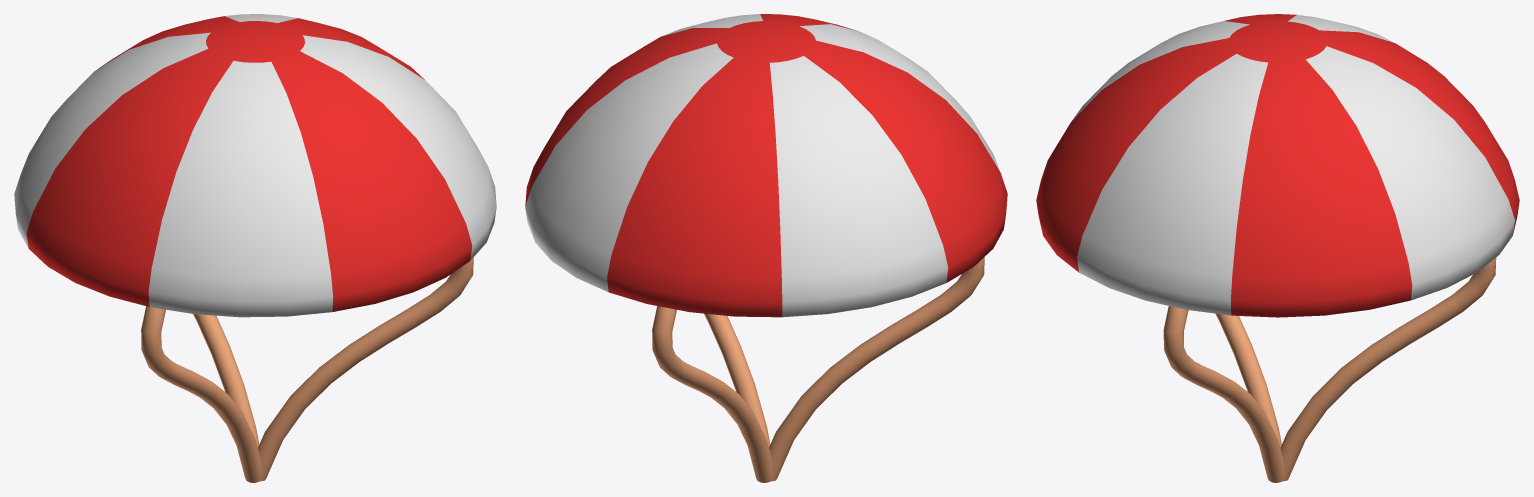
The model's file is Parachute.fbx.
3 views of the same model, side by side, from view 1: azimuth 30°, elevation 25°; view 2: azimuth 150°, elevation 25°; view 3: azimuth 270°, elevation 25° (orthographic).
Visible parts, largest first — view 1: Sphere, BezierCurve.001, BezierCurve.002, BezierCurve; view 2: Sphere, BezierCurve.002, BezierCurve, BezierCurve.001; view 3: Sphere, BezierCurve, BezierCurve.001, BezierCurve.002.
Part boxes in pixels (x1,y1,x2,y2): Sphere: (14,14,496,317); BezierCurve.001: (258,257,473,481); BezierCurve.002: (141,306,261,482); BezierCurve: (193,314,259,447); Sphere: (525,14,1007,317); BezierCurve.002: (769,257,984,481); BezierCurve: (652,306,772,482); BezierCurve.001: (704,313,770,446); Sphere: (1036,14,1519,317); BezierCurve: (1280,257,1496,481); BezierCurve.001: (1163,306,1283,482); BezierCurve.002: (1215,313,1281,447).
Bounding box in the file's own units: 1.9 × 1.9 × 1.92.
